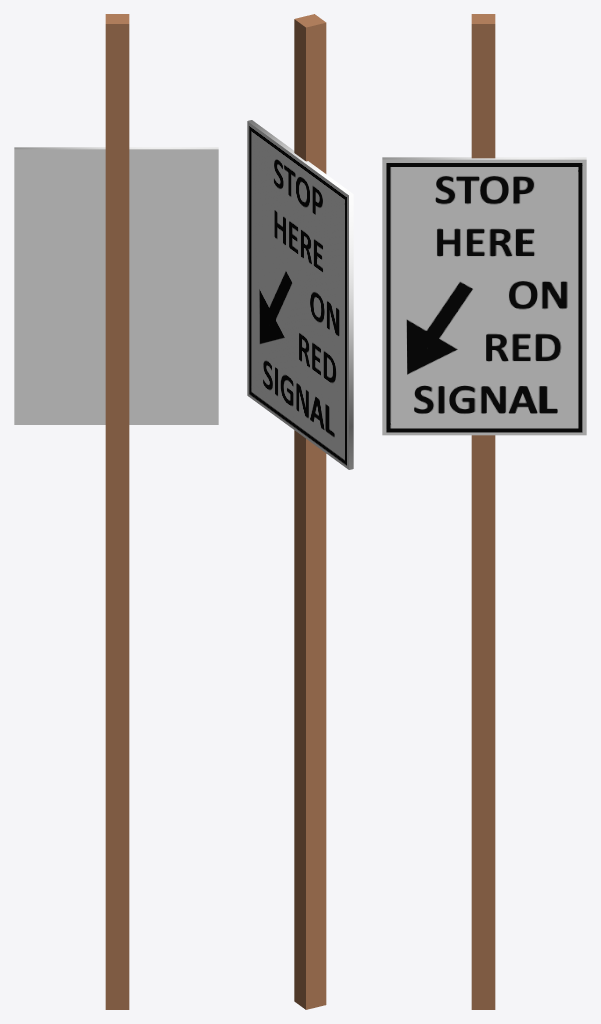
The model's file is sign9.fbx.
3 views of the same model, side by side, from view 1: azimuth 90°, elevation 25°; view 2: azimuth 210°, elevation 25°; view 3: azimuth 270°, elevation 25° (orthographic).
Visible parts, largest first — view 1: Cylinder.011_Cylinder.018; view 2: Cylinder.011_Cylinder.018; view 3: Cylinder.011_Cylinder.018.
Boxes of the visible parts, left/top/right/bottom form: Cylinder.011_Cylinder.018: left=14, top=14, right=218, bottom=1009; Cylinder.011_Cylinder.018: left=247, top=14, right=353, bottom=1009; Cylinder.011_Cylinder.018: left=382, top=14, right=586, bottom=1009.
Bounding box in the file's own units: 8.51 × 348 × 65.3.
